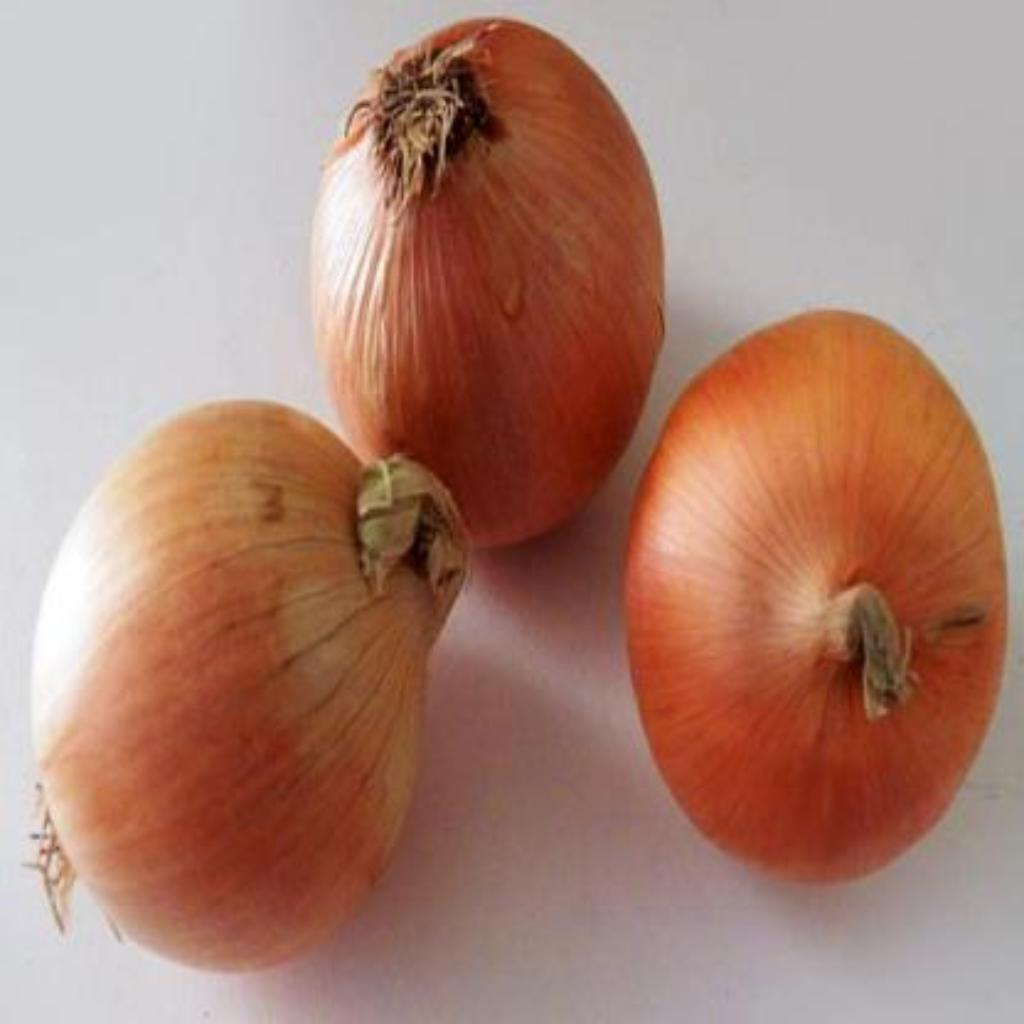Onion: (34, 404, 470, 971), (628, 310, 1009, 882), (315, 20, 665, 546)
